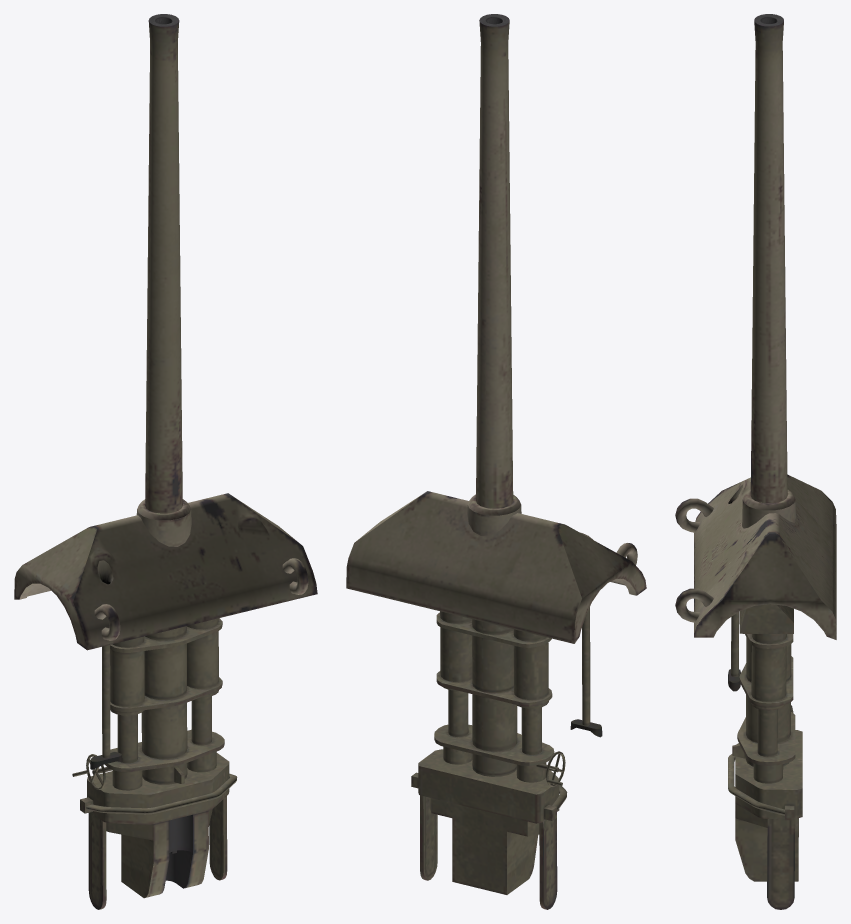
Rendered from Gun_02.glb.
3 views of the same model, side by side, from view 1: azimuth 30°, elevation 25°; view 2: azimuth 150°, elevation 25°; view 3: azimuth 270°, elevation 25° (orthographic). The views are drawn at different scales.
Parts seen in each view (by area): view 1: set_0_group_0; view 2: set_0_group_0; view 3: set_0_group_0.
Boxes of the visible parts, x1,y1,x2,y2 form: set_0_group_0: (14,14,317,909); set_0_group_0: (346,14,646,909); set_0_group_0: (675,14,836,909).
Size of the model in its own units: 1.18 by 4.31 by 0.7329.
Materials: 1 (1 with a texture image).
